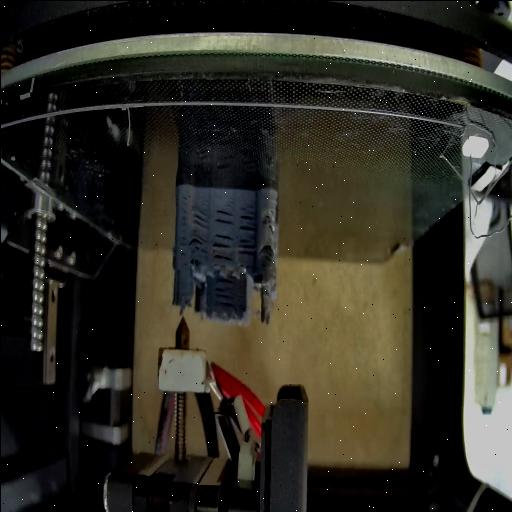cracks: (238, 205, 255, 256), (176, 192, 188, 258), (211, 277, 235, 309), (212, 232, 234, 264), (212, 204, 234, 226), (190, 230, 208, 256), (260, 242, 278, 266), (192, 206, 208, 224), (267, 222, 273, 241)
